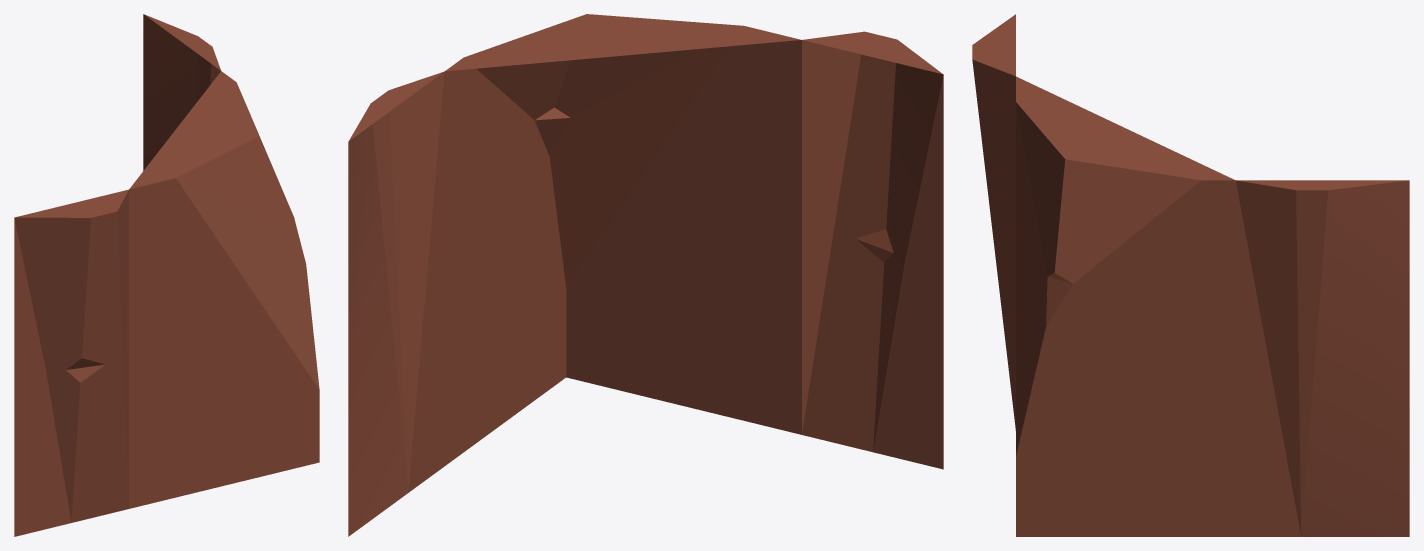
File: Wall_007.FBX
The picture shows the model from 3 angles, left to right: view 1: azimuth 30°, elevation 25°; view 2: azimuth 150°, elevation 25°; view 3: azimuth 270°, elevation 25°; orthographic projection. The views are drawn at different scales.
Parts seen in each view (by area): view 1: Wall_007; view 2: Wall_007; view 3: Wall_007.
Boxes of the visible parts, bbox=[...] form: Wall_007: bbox=[14, 14, 319, 536]; Wall_007: bbox=[348, 14, 943, 536]; Wall_007: bbox=[972, 14, 1409, 536].
Size of the model in its own units: 83.46 by 78.74 by 87.51.
